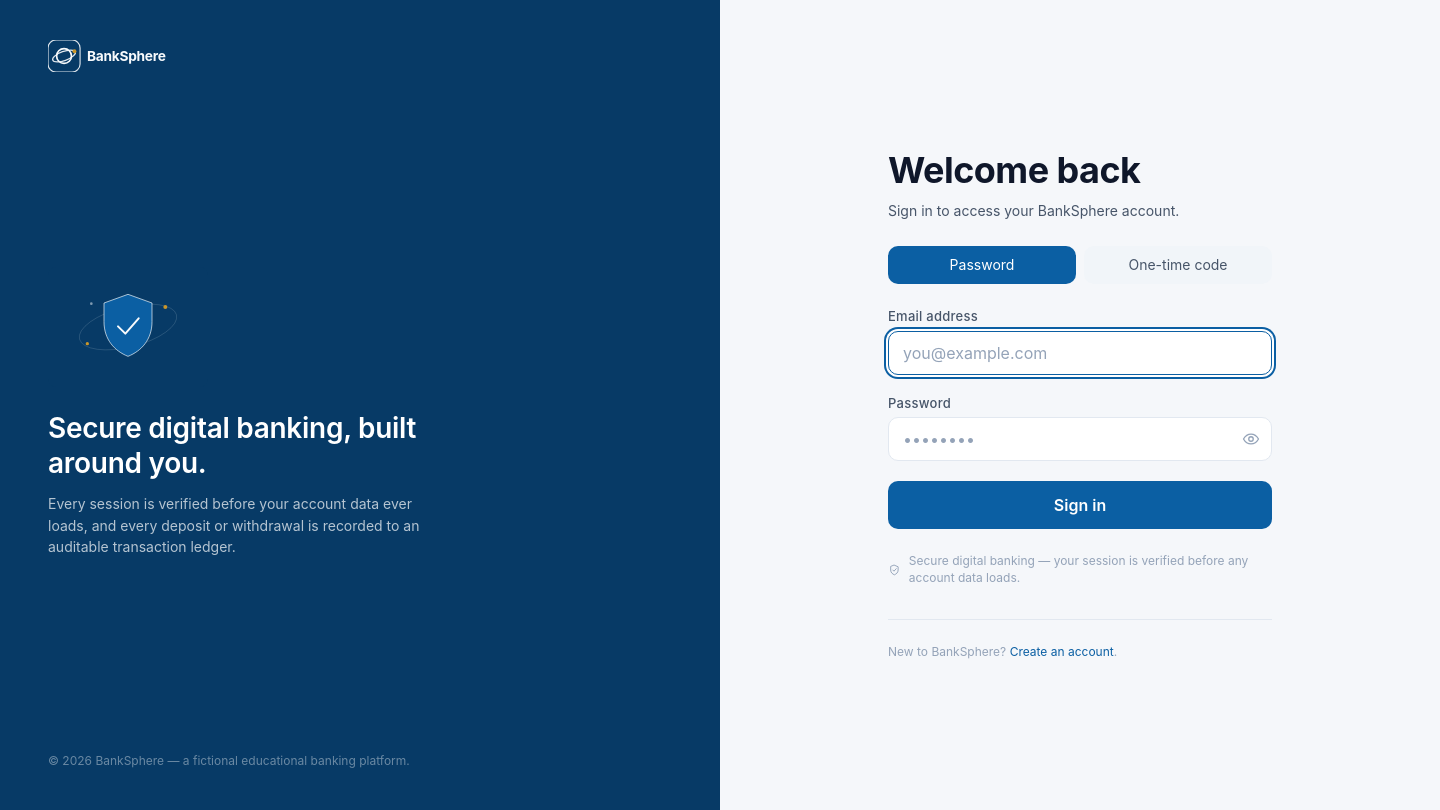
Test: Login page › never reveals via the OTP-request response whether the identifier is registered
Step 1. Click the tab "One-time code" → {"x": 1178, "y": 265}, box [1084,246,1272,284]
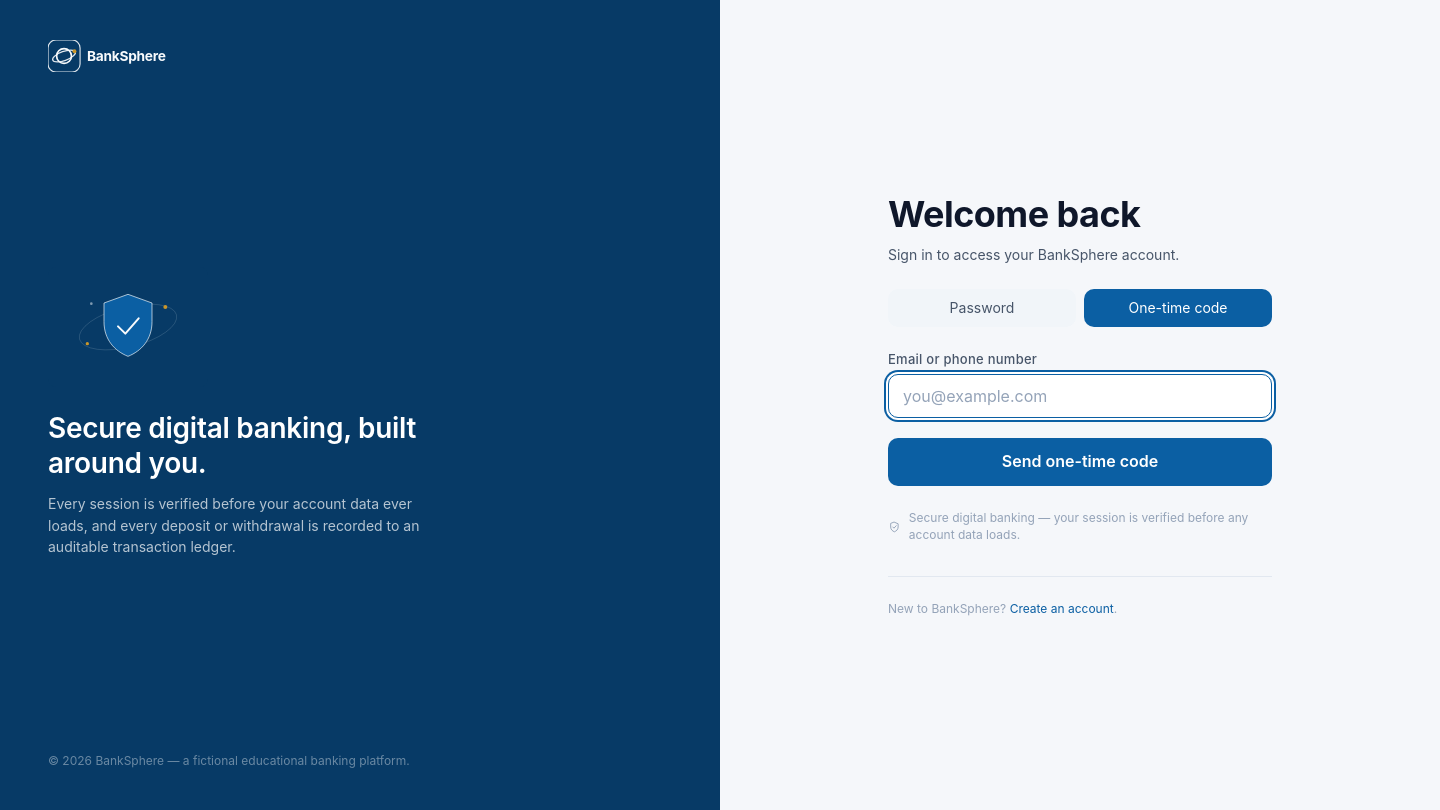
Step 2. Type "unknown@example.com" into the field labelled "Email or phone number" → {"x": 1080, "y": 396}, box [888,374,1272,418]
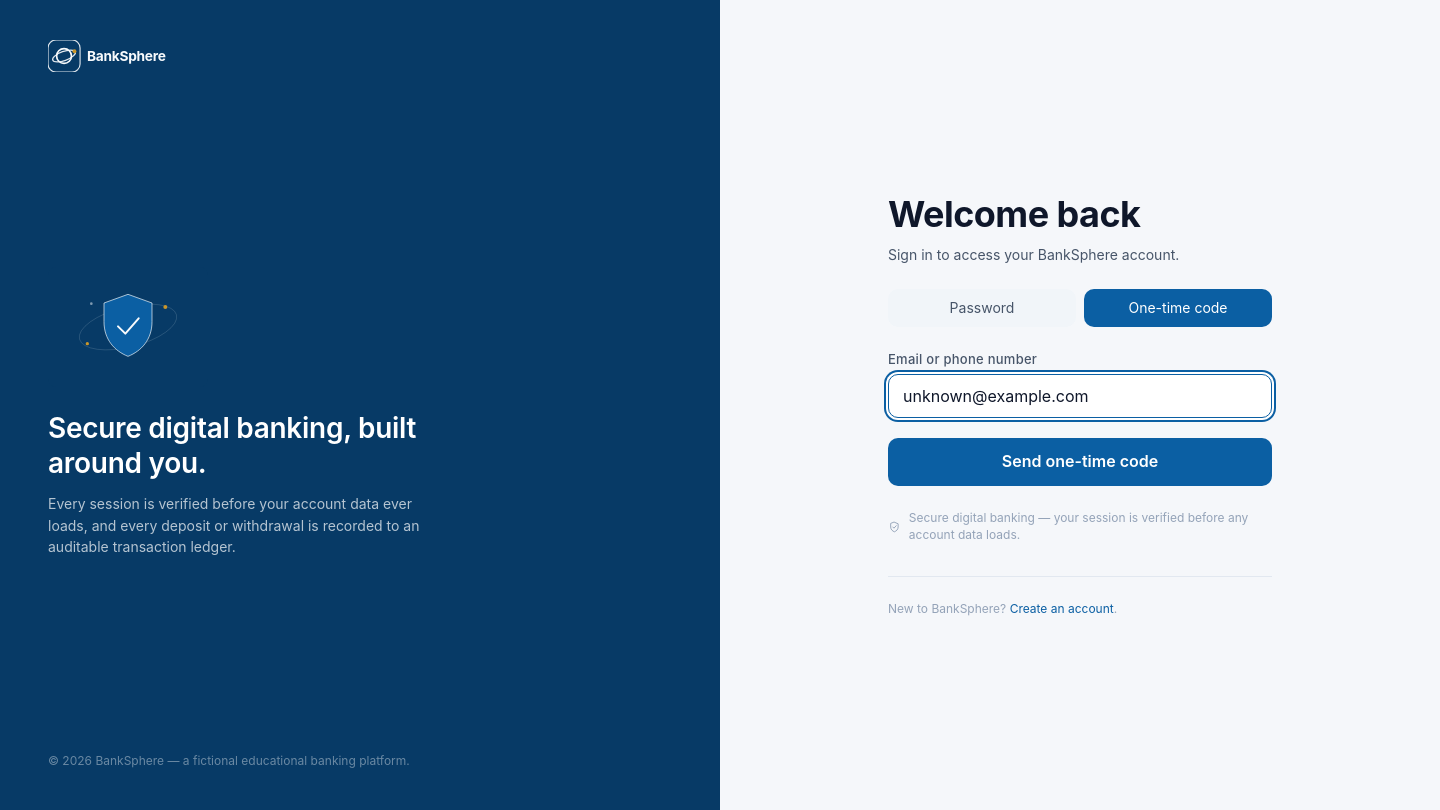
Step 3. Click the button "Send one-time code" → {"x": 1080, "y": 462}, box [888,438,1272,486]
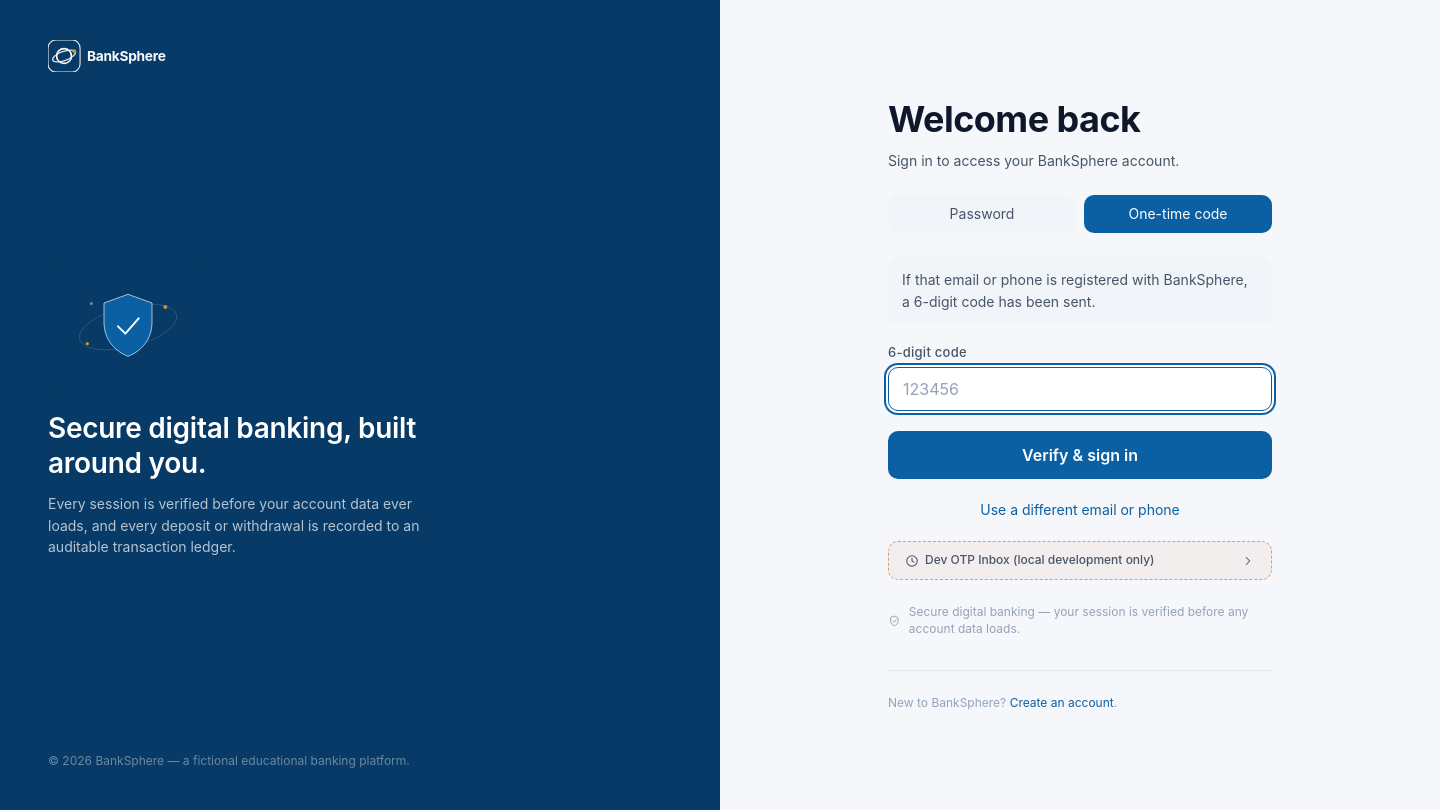
expect the text "If that email or phone is registered with BankSphere, a 6-digit code has been sent." is shown: met, box [902,271,1248,310]
